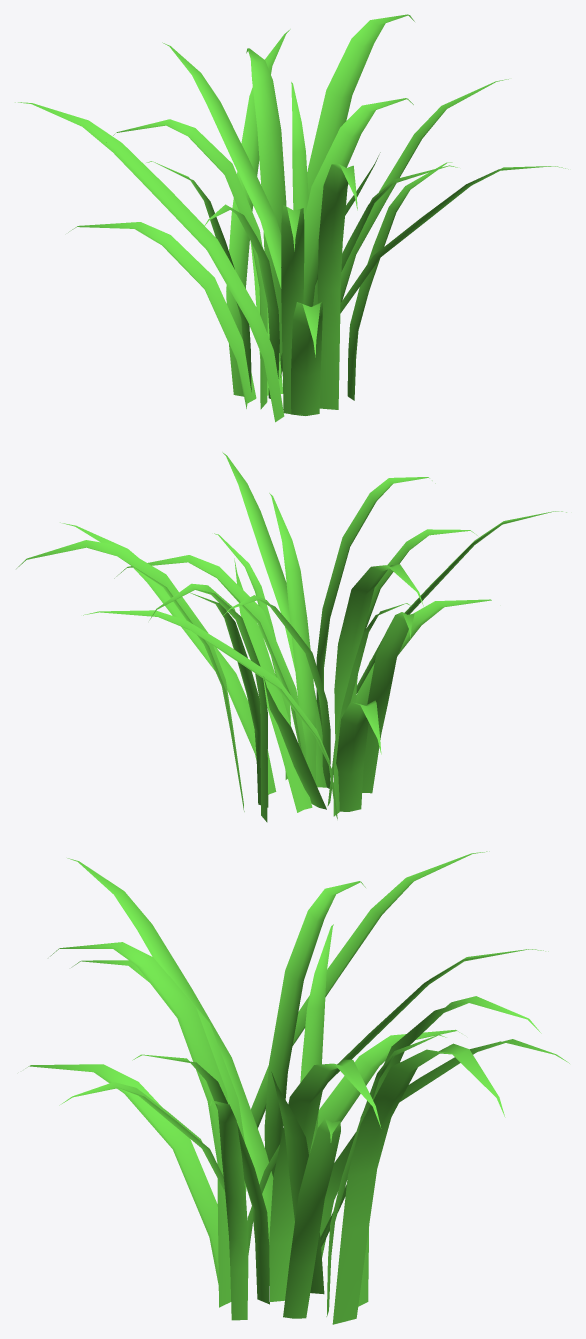
File: grass.glb
The picture shows the model from 3 angles, top to bottom: view 1: azimuth 30°, elevation 25°; view 2: azimuth 150°, elevation 25°; view 3: azimuth 270°, elevation 25°; orthographic projection. The views are drawn at different scales.
Parts seen in each view (by area): view 1: Grass_20; view 2: Grass_20; view 3: Grass_20.
Boxes of the visible parts, left/top/right/bottom form: Grass_20: left=15, top=14, right=568, bottom=422; Grass_20: left=16, top=452, right=566, bottom=822; Grass_20: left=25, top=851, right=569, bottom=1324.
Size of the model in its own units: 0.8169 by 0.5136 by 0.7578.
